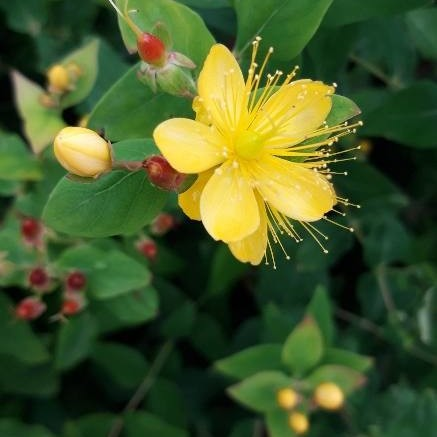obstacle: (55, 39, 388, 247)
